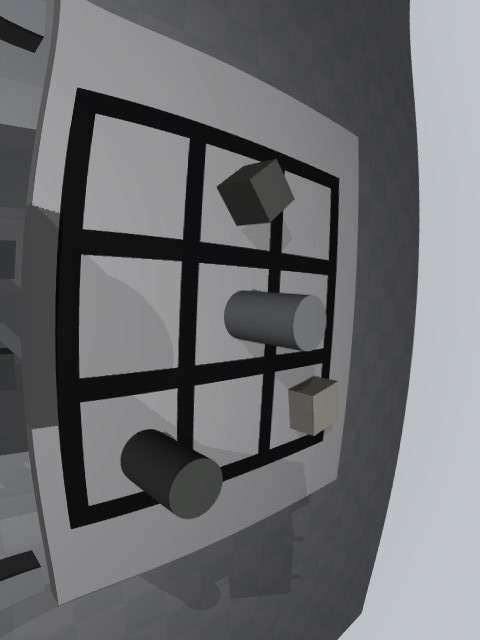can: (224, 291, 327, 351)
cube: (217, 159, 295, 226)
cylinder: (121, 429, 223, 520)
foam: (288, 376, 339, 436)
